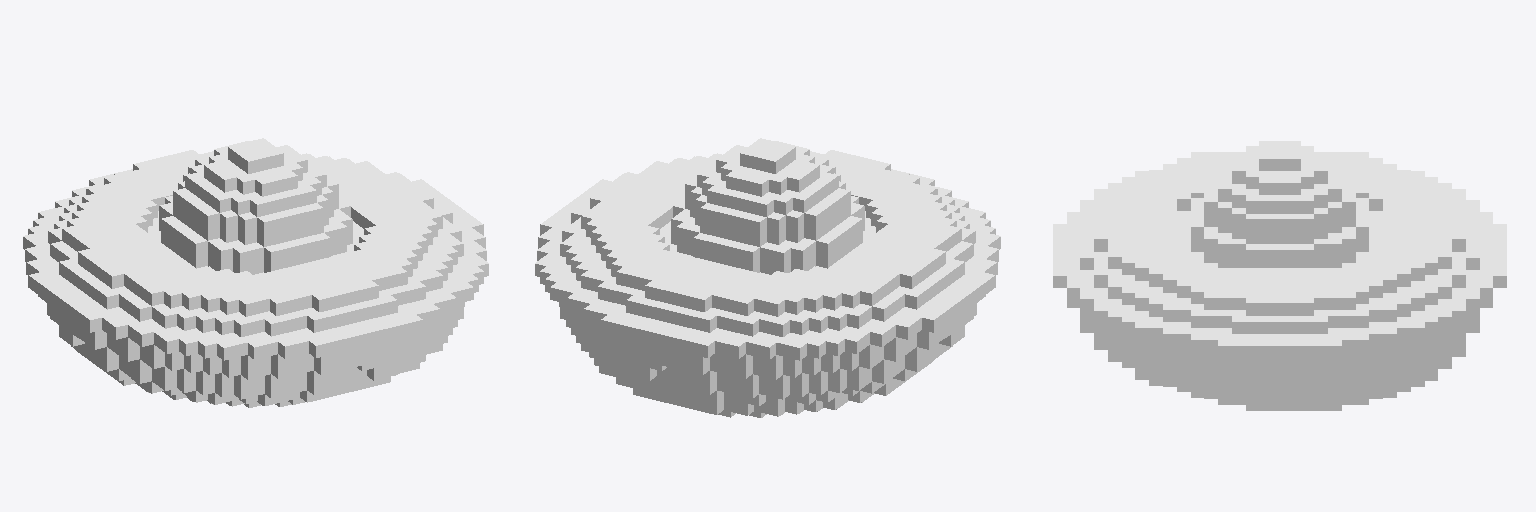
File: nlo.obj
3 renders of one model, left to right at view 1: azimuth 30°, elevation 25°; view 2: azimuth 150°, elevation 25°; view 3: azimuth 270°, elevation 25°, orthographic.
Parts seen in each view (by area): view 1: object 1; view 2: object 1; view 3: object 1.
Boxes of the visible parts, x1=… form: object 1: x1=23, y1=138, x2=488, y2=407; object 1: x1=535, y1=138, x2=1000, y2=417; object 1: x1=1053, y1=141, x2=1506, y2=410.
Bounding box in the file's own units: 3.3 × 1.7 × 3.3.